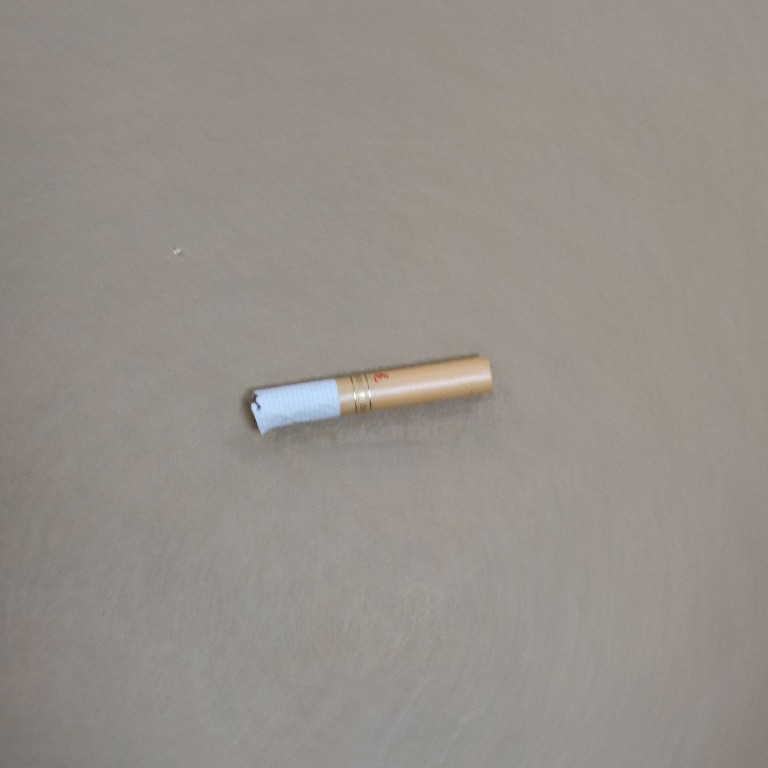cigarette: (242, 352, 499, 438)
